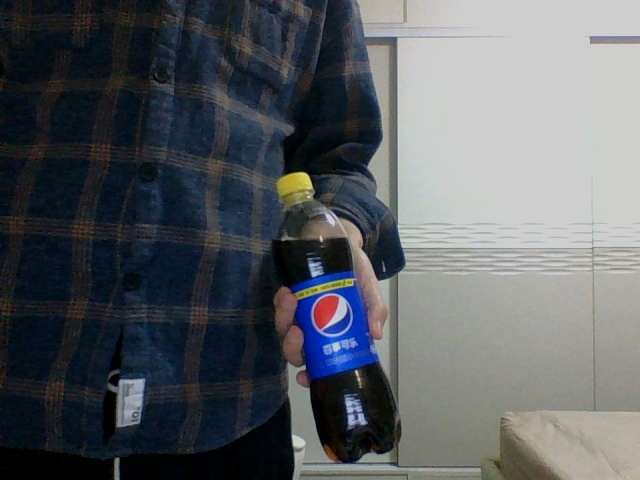Cola: (272, 171, 403, 459)
